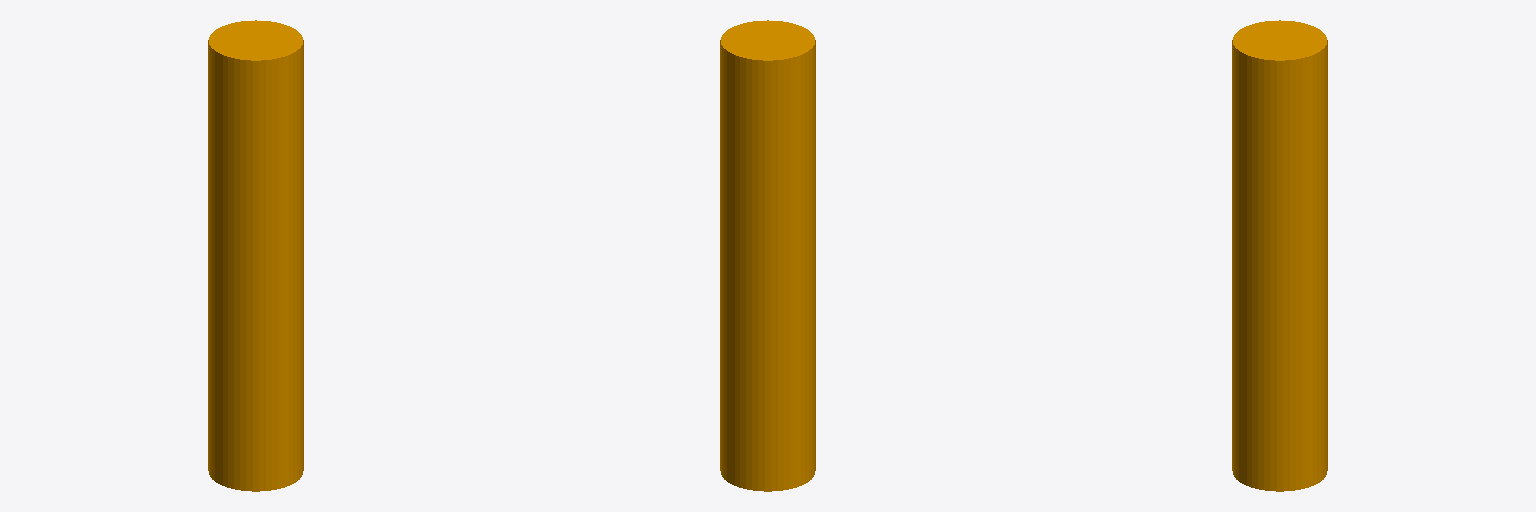
URDF robot description (benchmark_part_12):
<robot name="benchmark_part_12">
  <link name="base_link">
    <visual>
      <geometry>
        <mesh filename="benchmark_parts_stl/benchmark_part_12.stl" scale="0.001 0.001 0.001" />
      </geometry>
    <origin xyz="0.5899999993641781 0.0 -0.05000000000000001" rpy="0 0 0" /></visual>
    <collision>
      <geometry>
        <mesh filename="benchmark_parts_stl/benchmark_part_12_vhacd.obj" scale="0.01 0.01 0.01" />
      </geometry>
    <origin xyz="0.5899999993641781 0.0 -0.05000000000000001" rpy="0 0 0" /></collision>
    <inertial>
      <mass value="0.1" />
      <inertia ixx="0.001" ixy="0.0" ixz="0.0" iyy="0.001" iyz="0.0" izz="0.001" />
    </inertial>
  </link>
</robot>

--- What the picture shows (computed from the rendered views, not written in the file) ---
Views: 3 orthographic renders of the robot side by side, from view 1: azimuth 30°, elevation 25°; view 2: azimuth 150°, elevation 25°; view 3: azimuth 270°, elevation 25°.
Model benchmark_part_12 with 1 links and 0 joints (none), rooted at base_link, posed every joint at zero.
Visible links, largest first — view 1: base_link; view 2: base_link; view 3: base_link.
Boxes of the visible links, bbox=[...] form: base_link: bbox=[208, 20, 303, 491]; base_link: bbox=[720, 20, 815, 491]; base_link: bbox=[1232, 20, 1327, 491].
Bounding box of the posed robot: 0.02 × 0.02 × 0.1 m (x, y, z).
1 mesh visuals loaded from 1 distinct referenced files (1 binary STL).